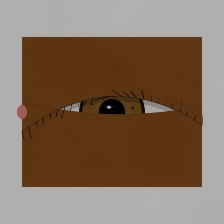pinguecula_lesion: (163, 90, 205, 123)
